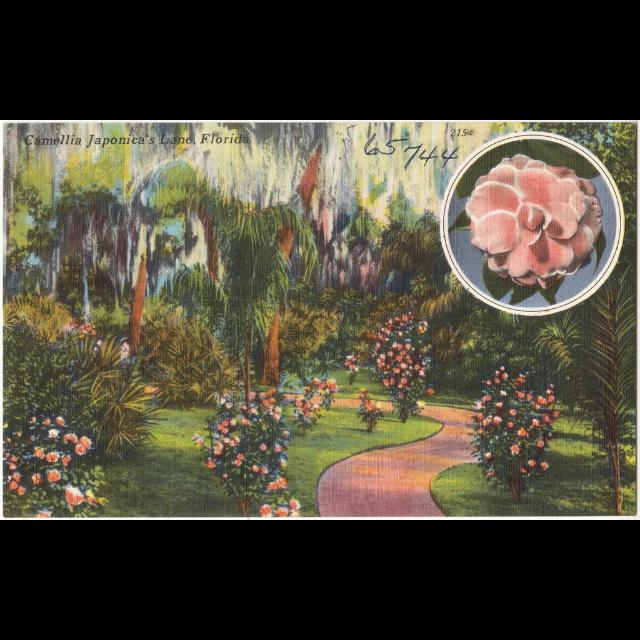Flower: (458, 136, 620, 288), (194, 386, 292, 516), (0, 415, 104, 515), (473, 366, 567, 476), (368, 312, 439, 400), (295, 376, 341, 420), (61, 316, 105, 338), (359, 386, 381, 414), (344, 353, 361, 371), (118, 340, 132, 358)
